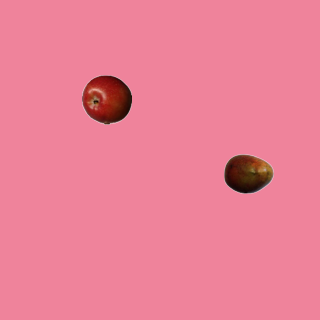Apple Braeburn: (81, 74, 131, 124)
Mango Red: (223, 148, 273, 198)
